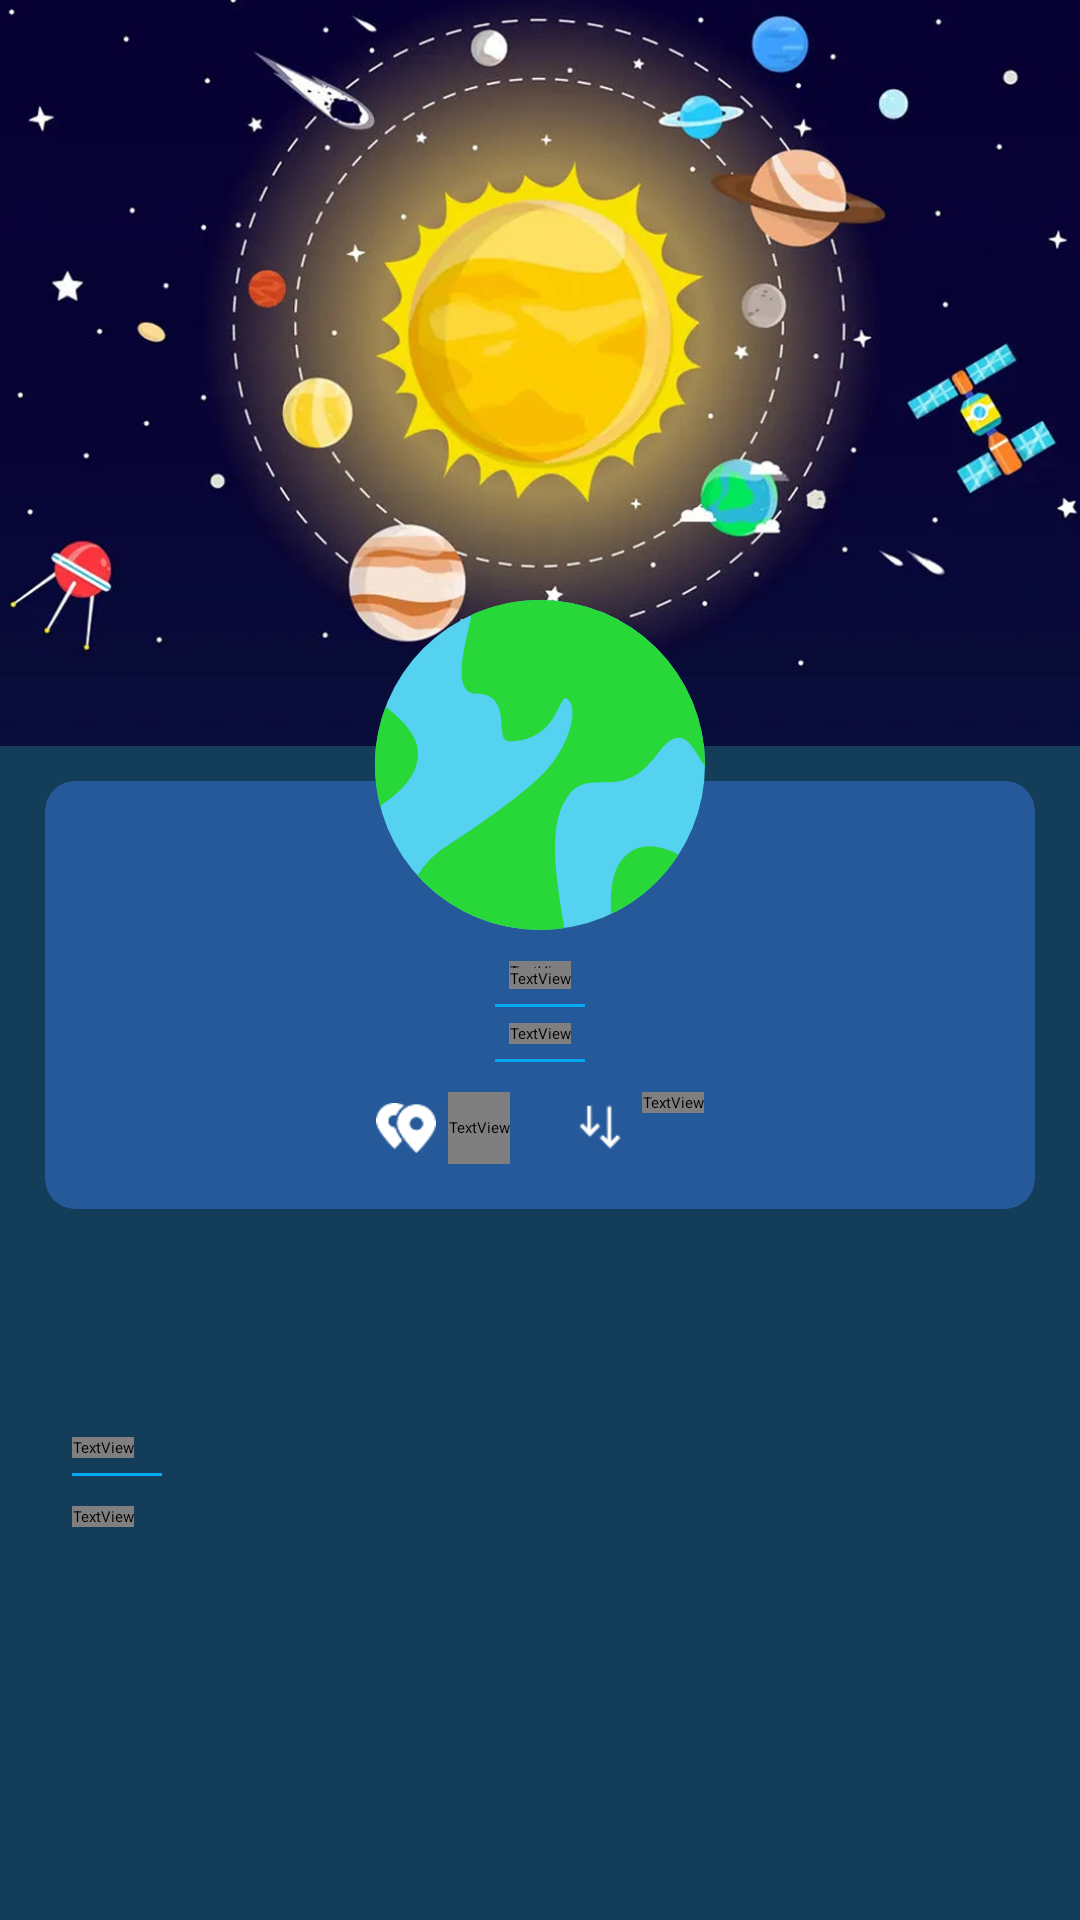

Where to tap for icons on this 1080px x 1920px app screen, as [x,y]:
distance: [406,1128]
earth: [540,765]
gravity: [600,1127]
